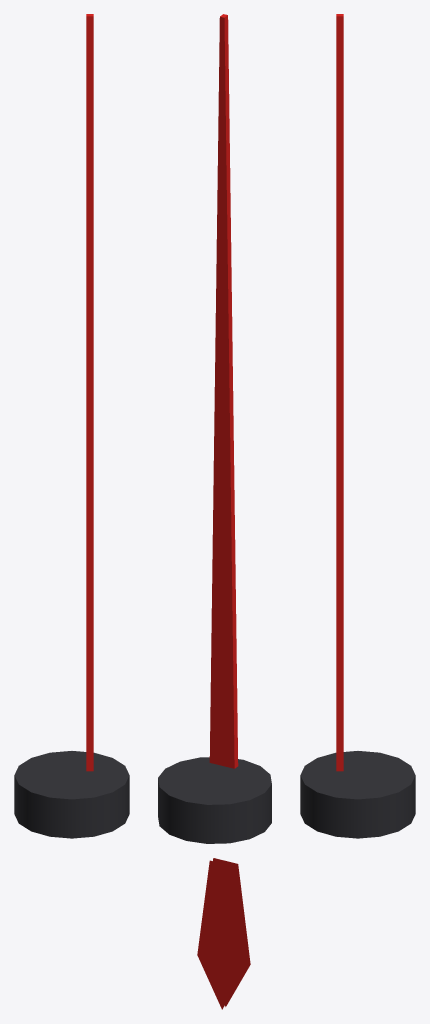
Rendered from Ammeter_Needle.obj.
The picture shows the model from 3 angles, left to right: view 1: azimuth 90°, elevation 25°; view 2: azimuth 150°, elevation 25°; view 3: azimuth 270°, elevation 25°; orthographic projection.
Size of the model in its own units: 0.0064 by 0.061 by 0.0064.
